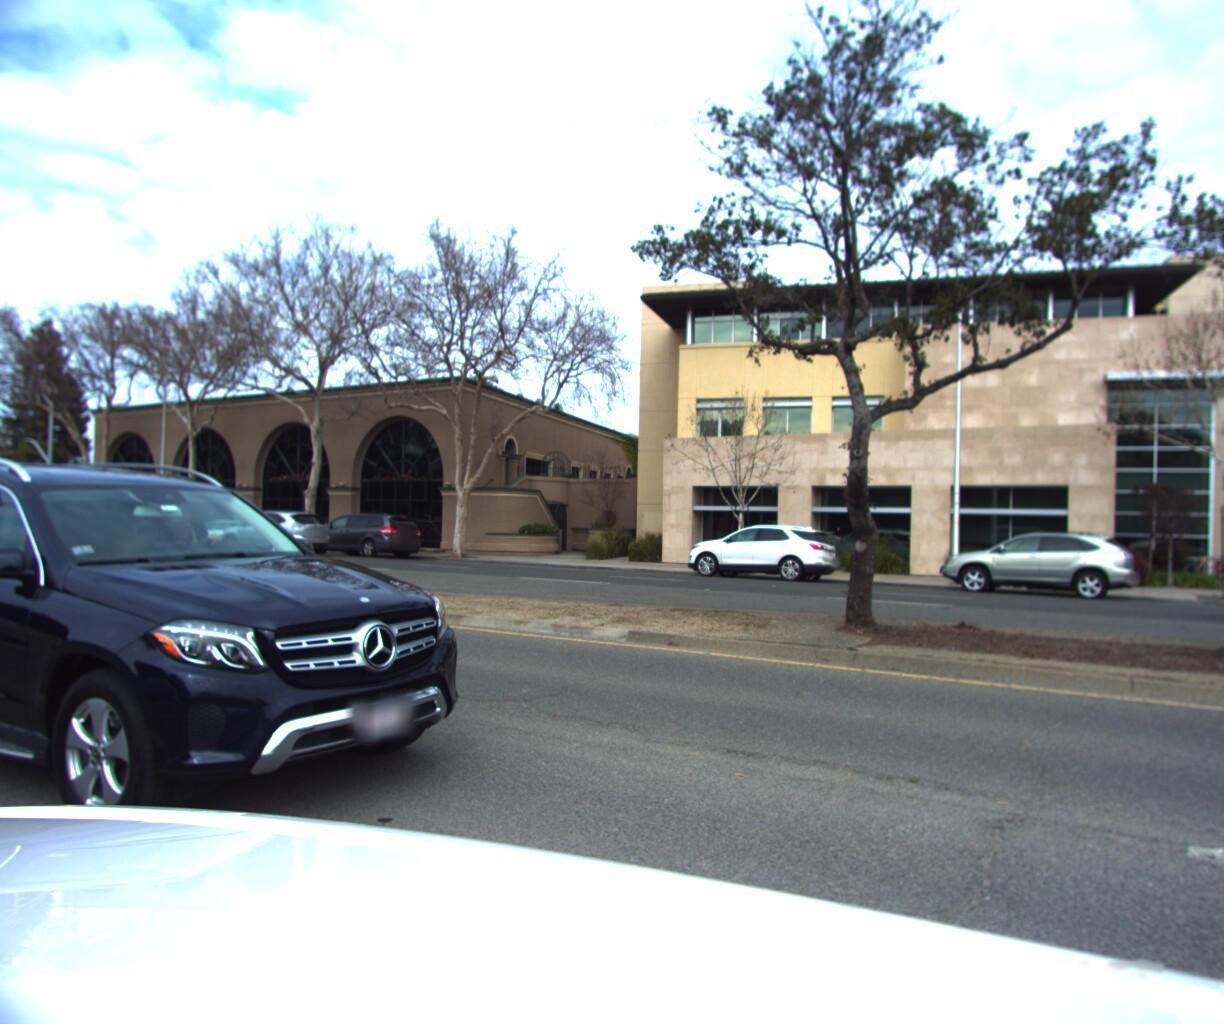car: (928, 525, 1134, 599), (673, 521, 841, 587), (300, 513, 425, 561), (220, 507, 336, 558)
